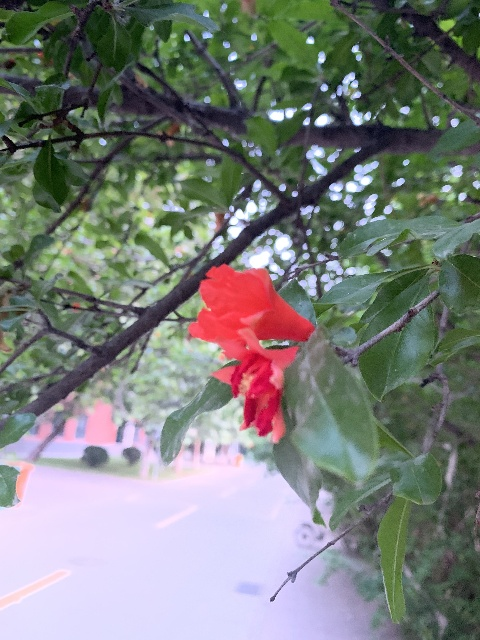early-fruit: (157, 122, 180, 145)
flower: (187, 263, 314, 356), (209, 327, 300, 443)
